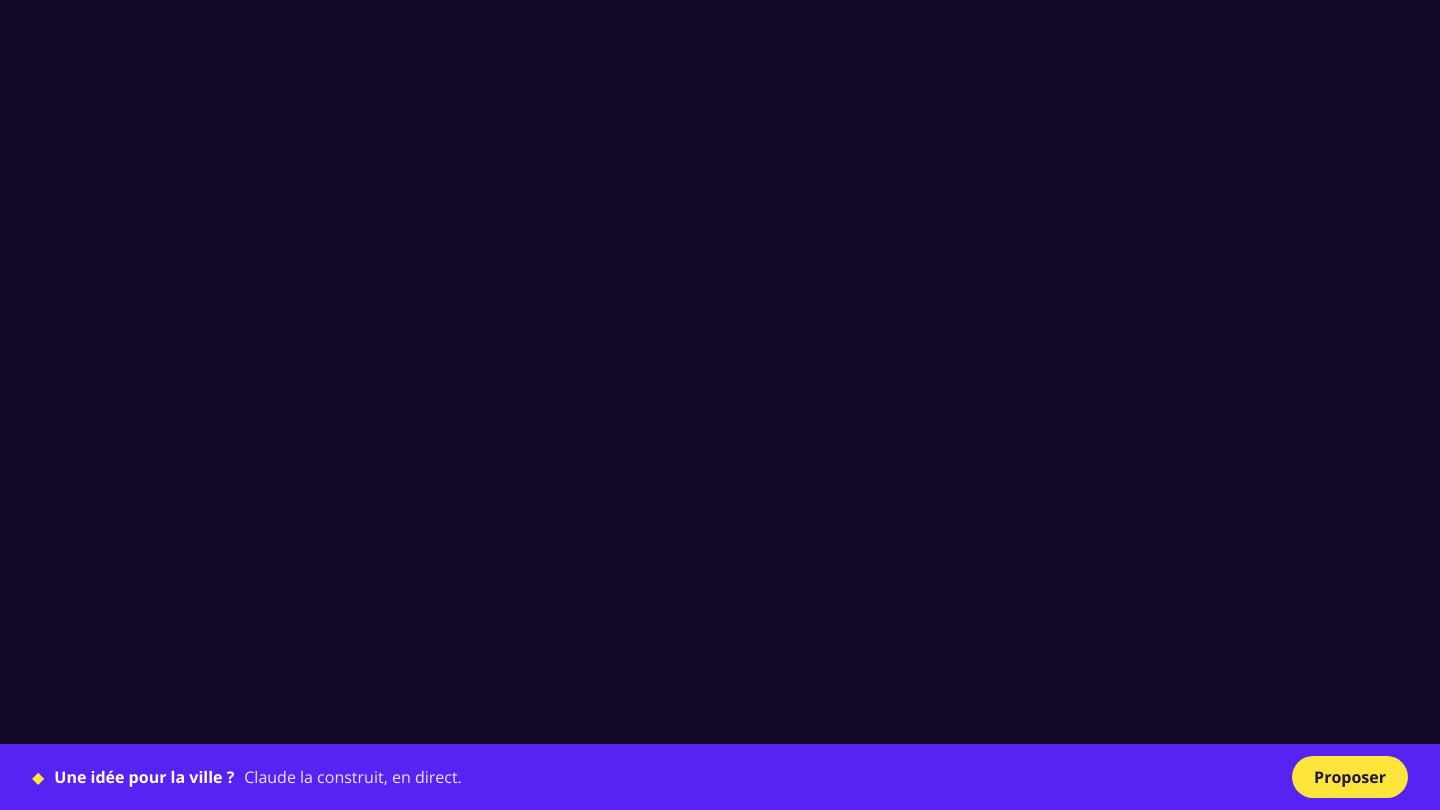
IdeaBanner › erreur réseau, avec état « Envoi… » pendant la requête
Later steps or results of the test are not shown.
Click the button "Proposer" at {"x": 1350, "y": 777}, box [1292, 756, 1408, 798]
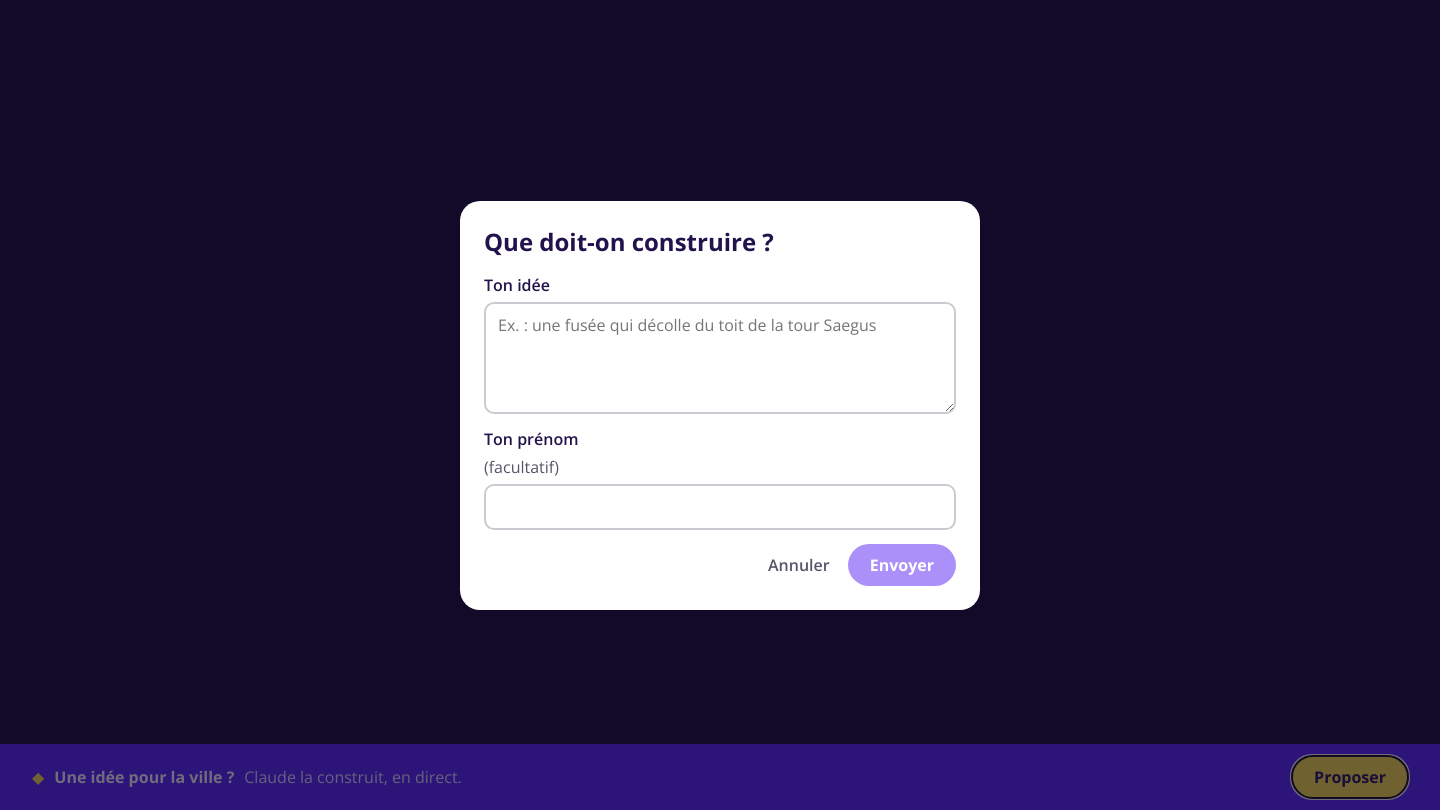
Type "Une fusée qui décolle de la tour" into the text box labelled "Ton idée" at {"x": 720, "y": 358}, box [484, 302, 956, 414]
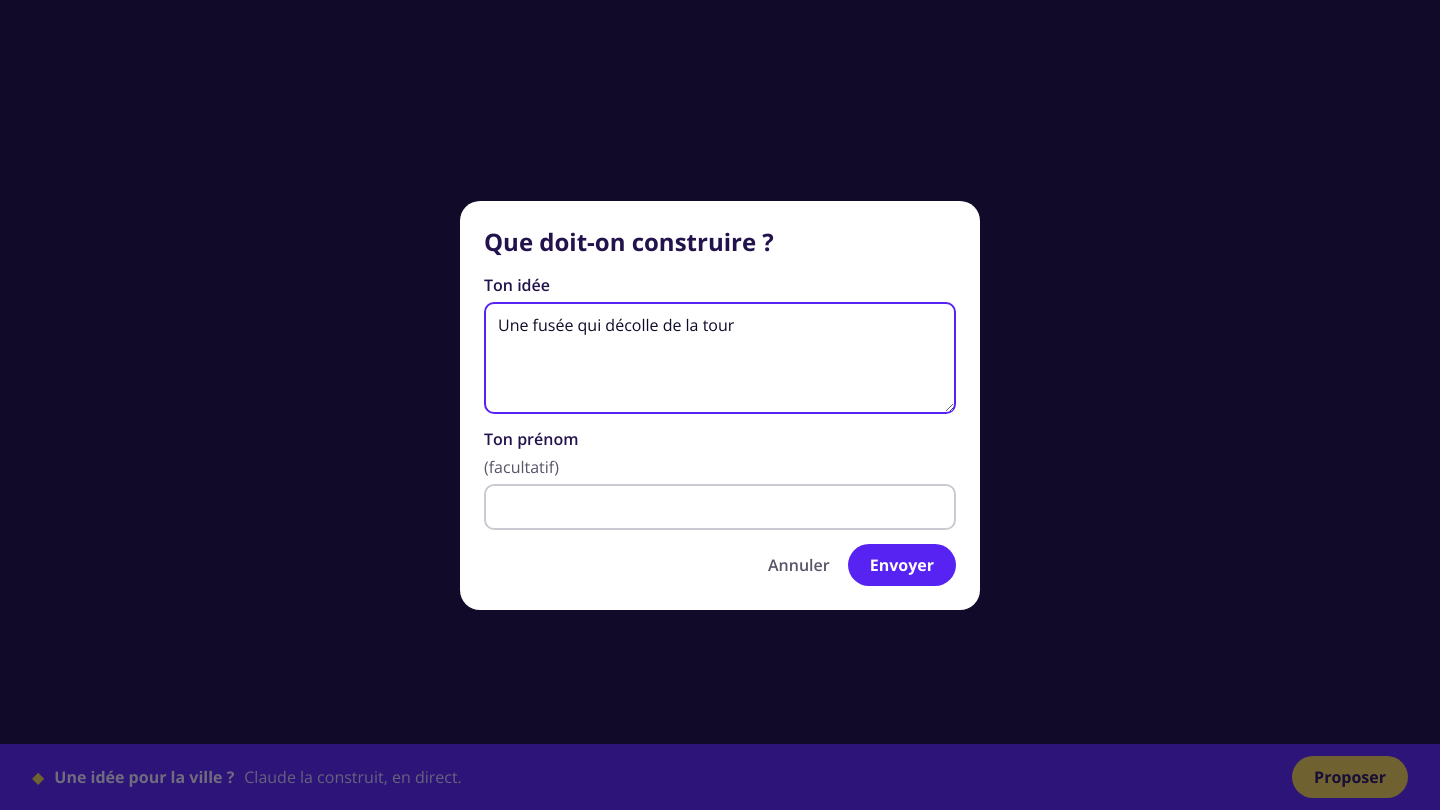
Click the button "Envoyer" at {"x": 902, "y": 564}, box [848, 544, 956, 586]
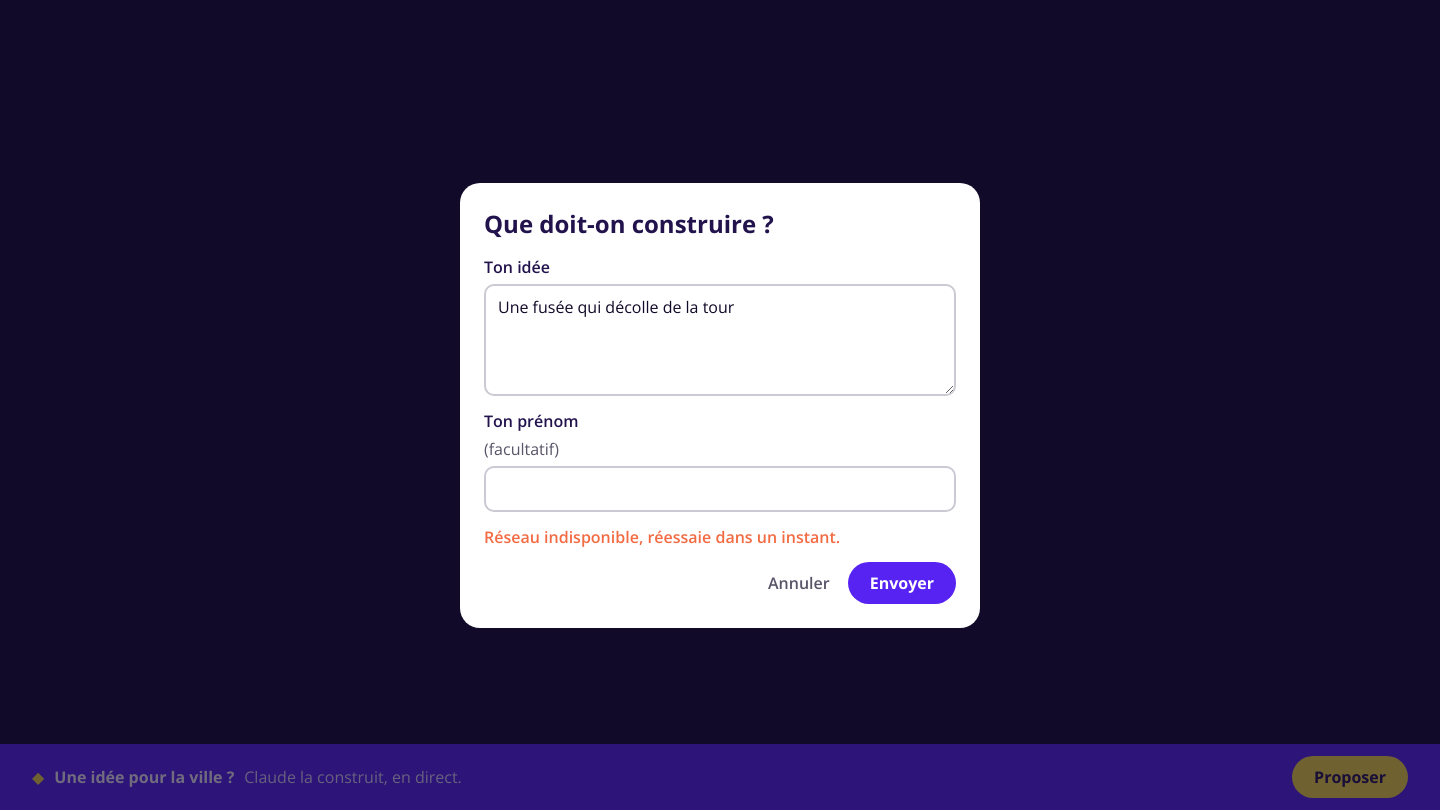
Expected: the message shows "Réseau indisponible", [484, 526, 840, 548]
